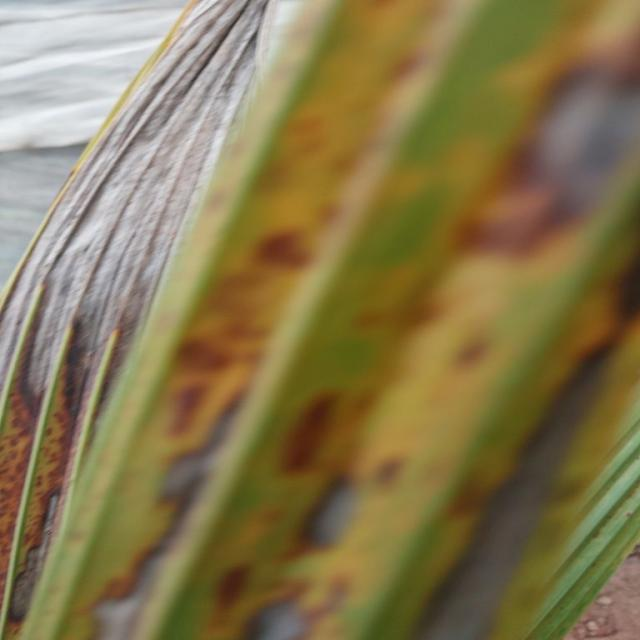gray leaf spot: (0, 4, 633, 640)
